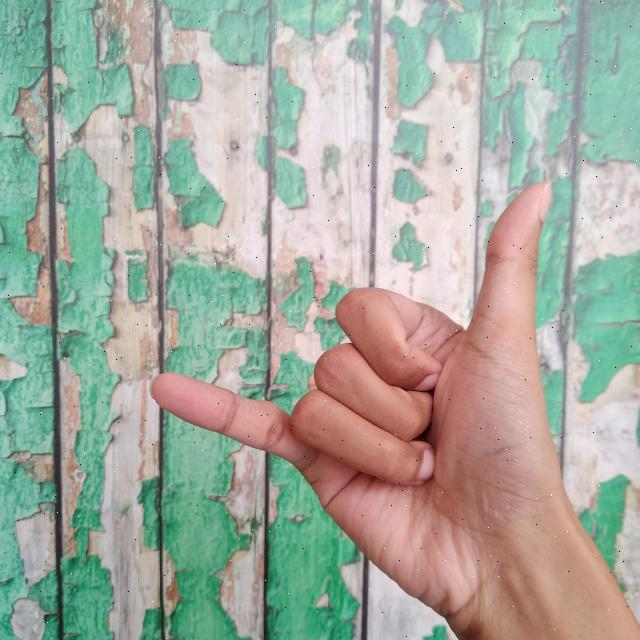Y: (142, 173, 640, 640)
